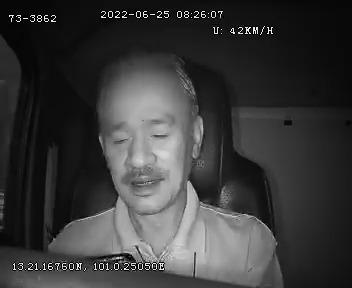PhoneUse: (63, 245, 145, 274)
